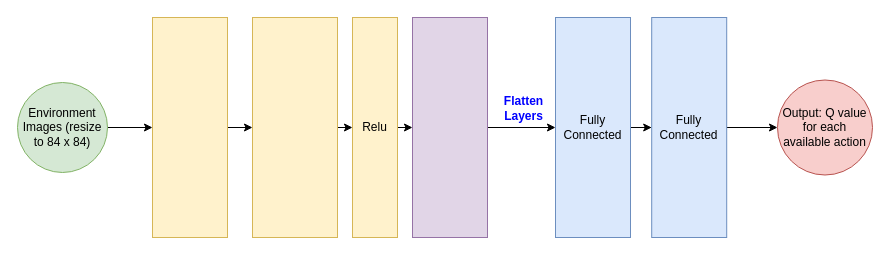
This 890x255 diagram has some shape labels left out. Each missing label, with the centre of its shape:
"Batch Normalization" goes at pixel 295 127.
"Convolution" goes at pixel 190 127.
"Repeat (Convolution, Batch Normalization, Relu) two more times" goes at pixel 450 127.
